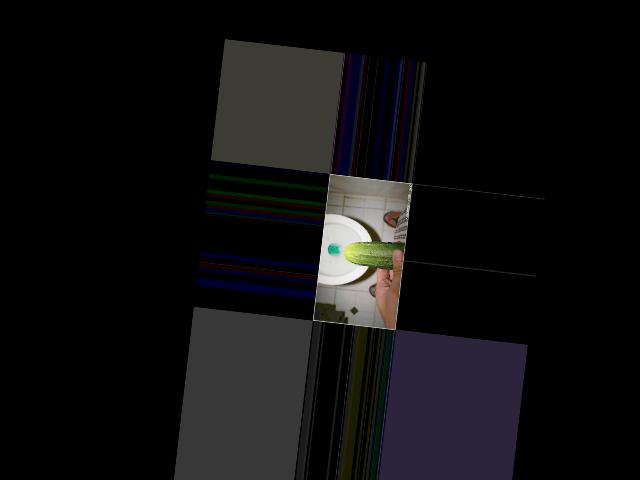cucumber: (343, 236, 406, 270)
